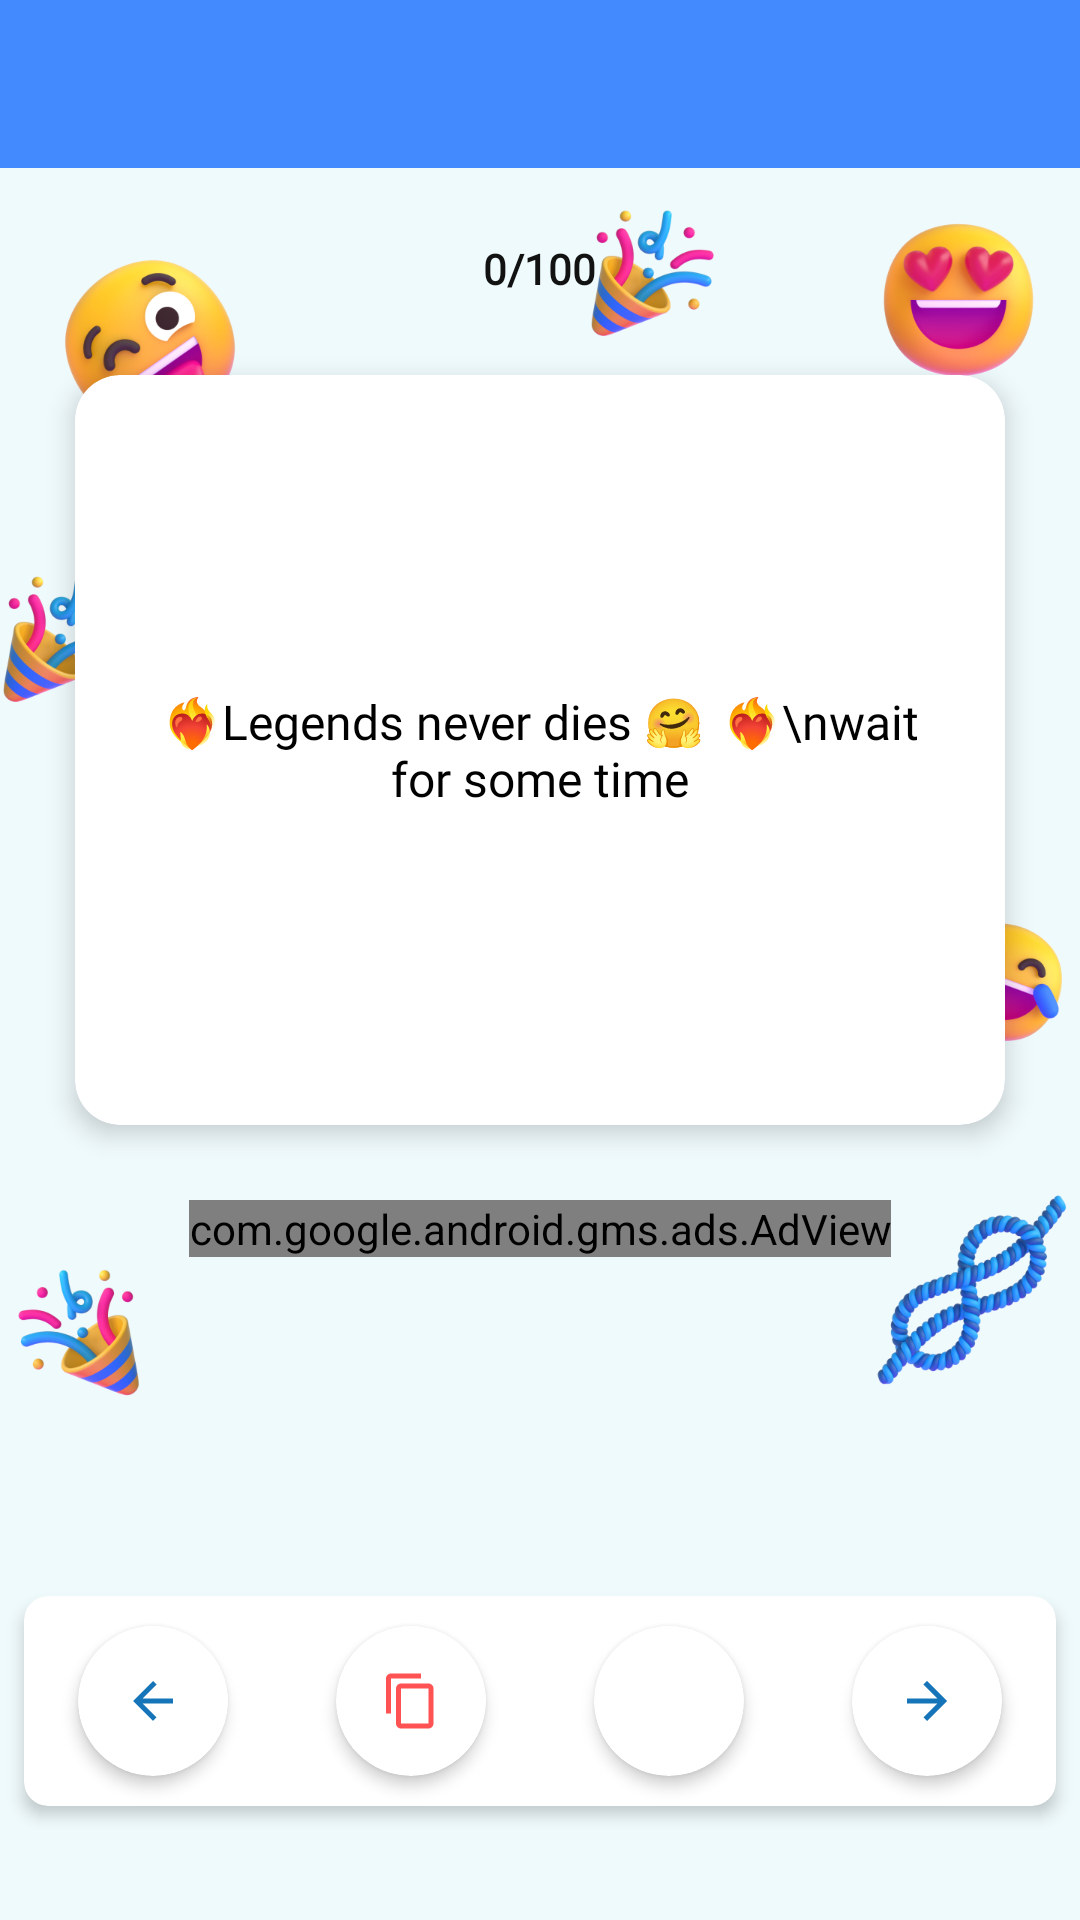

Icon bounding boxes for this 1080px×1920px phone screenshot, format [x1=x1, y1=y1, x2=x2, y2=y2]:
back: [x1=133, y1=1681, x2=173, y2=1721]
next: [x1=907, y1=1681, x2=947, y2=1721]
